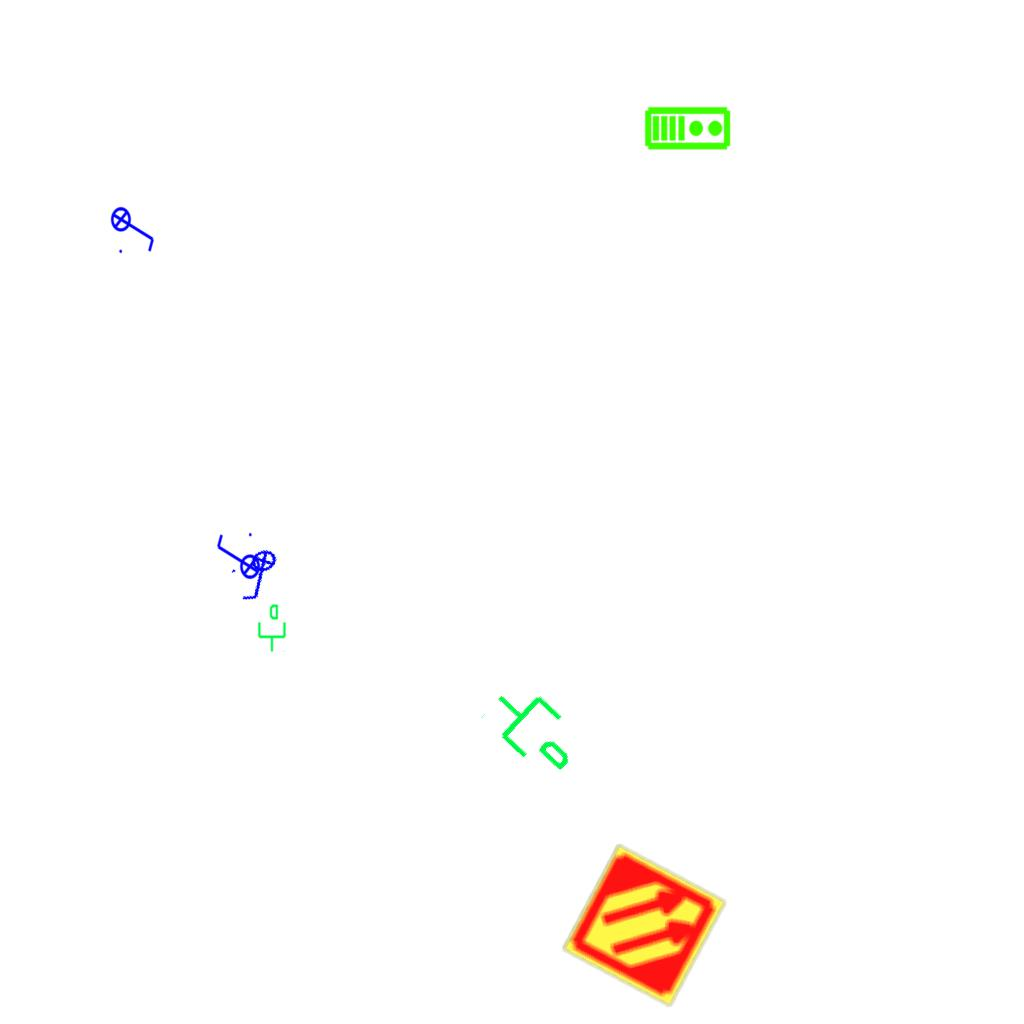ASR_Ansaugrauchmelder: (559, 840, 730, 1011)
Ausschalter_beleuchtet: (225, 544, 295, 608), (213, 530, 261, 586), (110, 200, 158, 256)
Datenanschluss_einfach: (475, 668, 596, 788), (254, 603, 288, 653)
Gegensprechanlage_mit_Video: (644, 104, 732, 151)
